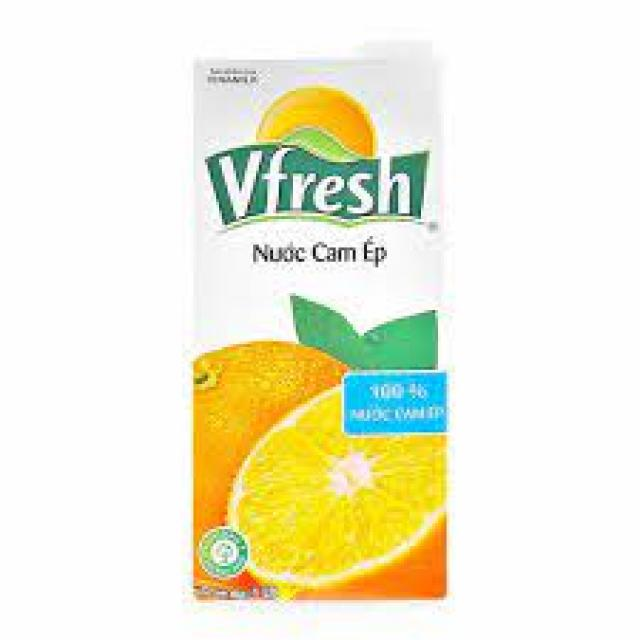non_white_jug: (162, 10, 478, 616)
